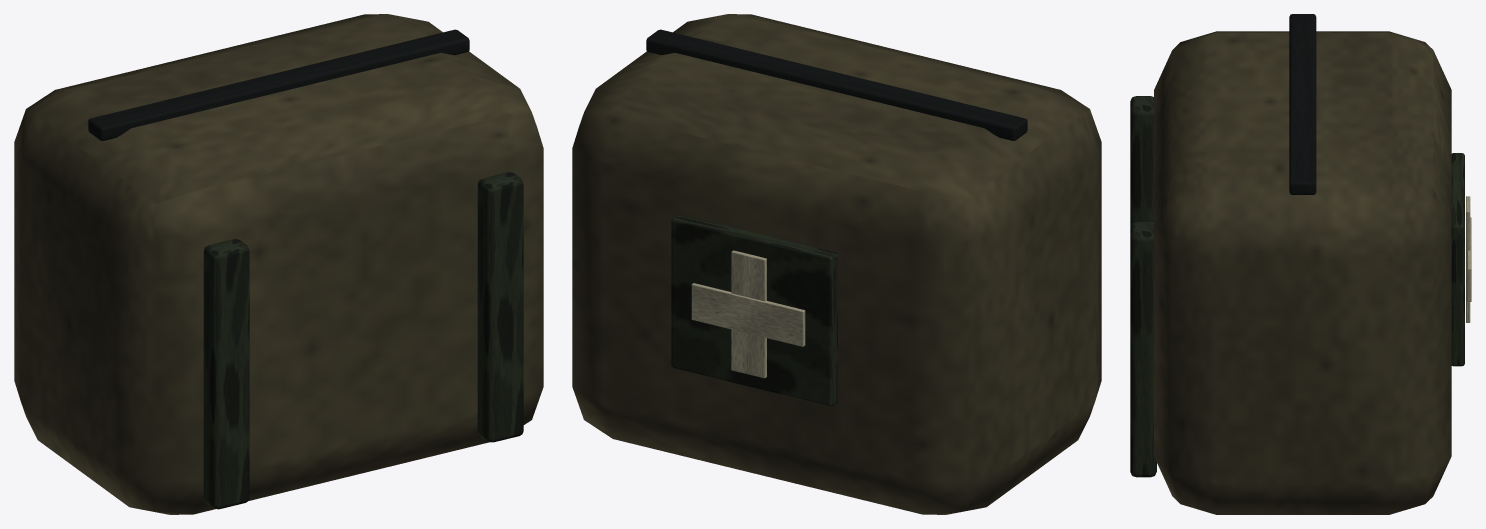
Rendered from medkit.glb.
3 renders of one model, left to right at view 1: azimuth 30°, elevation 25°; view 2: azimuth 150°, elevation 25°; view 3: azimuth 270°, elevation 25°, orthographic. The views are drawn at different scales.
Visible parts, largest first — view 1: body_webbing, body_fabric, body_darksteel; view 2: body_webbing, body_fabric, body_darksteel, body_ivory; view 3: body_webbing, body_fabric, body_darksteel, body_ivory.
Part boxes in pixels (box(x1,y1,x2,y2)): body_webbing: box(14, 14, 543, 514); body_fabric: box(203, 172, 523, 509); body_darksteel: box(88, 29, 469, 140); body_webbing: box(572, 14, 1101, 514); body_fabric: box(671, 214, 837, 406); body_darksteel: box(646, 29, 1027, 140); body_ivory: box(691, 250, 805, 378); body_webbing: box(1154, 31, 1451, 514); body_fabric: box(1130, 96, 1464, 477); body_darksteel: box(1289, 14, 1316, 194); body_ivory: box(1466, 196, 1471, 322).
Bounding box in the file's own units: 0.31 × 0.255 × 0.2295.
Materials: 4 (4 with a texture image).
